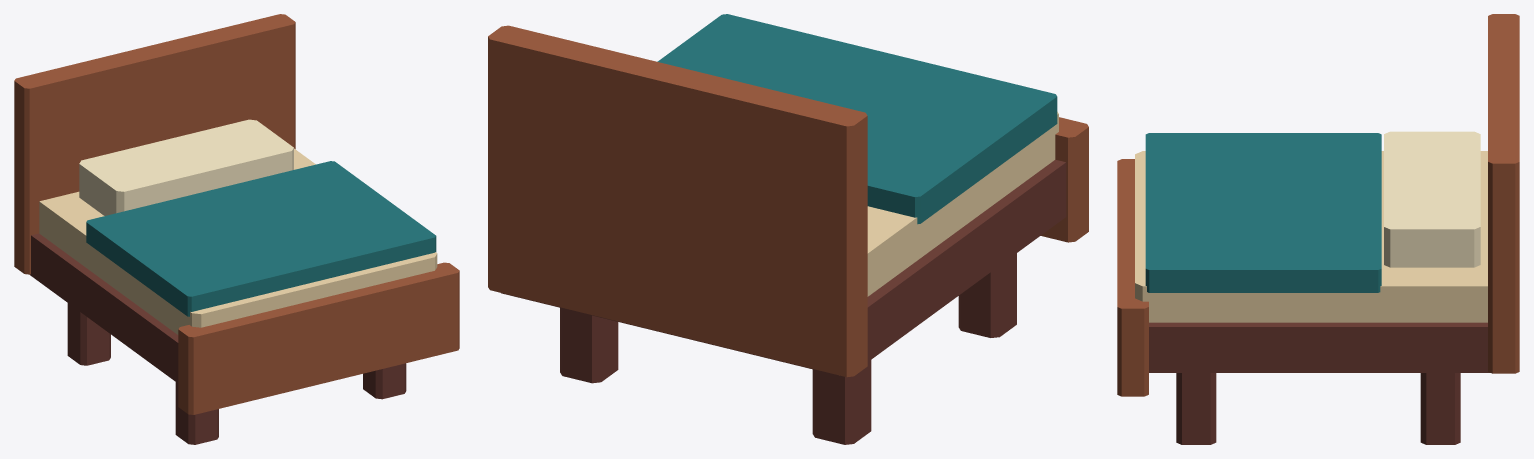
Rendered from Bed.fbx.
The picture shows the model from 3 angles, left to right: view 1: azimuth 30°, elevation 25°; view 2: azimuth 150°, elevation 25°; view 3: azimuth 270°, elevation 25°; orthographic projection. The views are drawn at different scales.
Visible parts, largest first — view 1: Bed.005; view 2: Bed.005; view 3: Bed.005.
Boxes of the visible parts, <box> form: Bed.005: <box>14,14,459,444</box>; Bed.005: <box>488,14,1088,444</box>; Bed.005: <box>1117,14,1519,444</box>.
Bounding box in the file's own units: 84 × 77.5 × 95.5.
